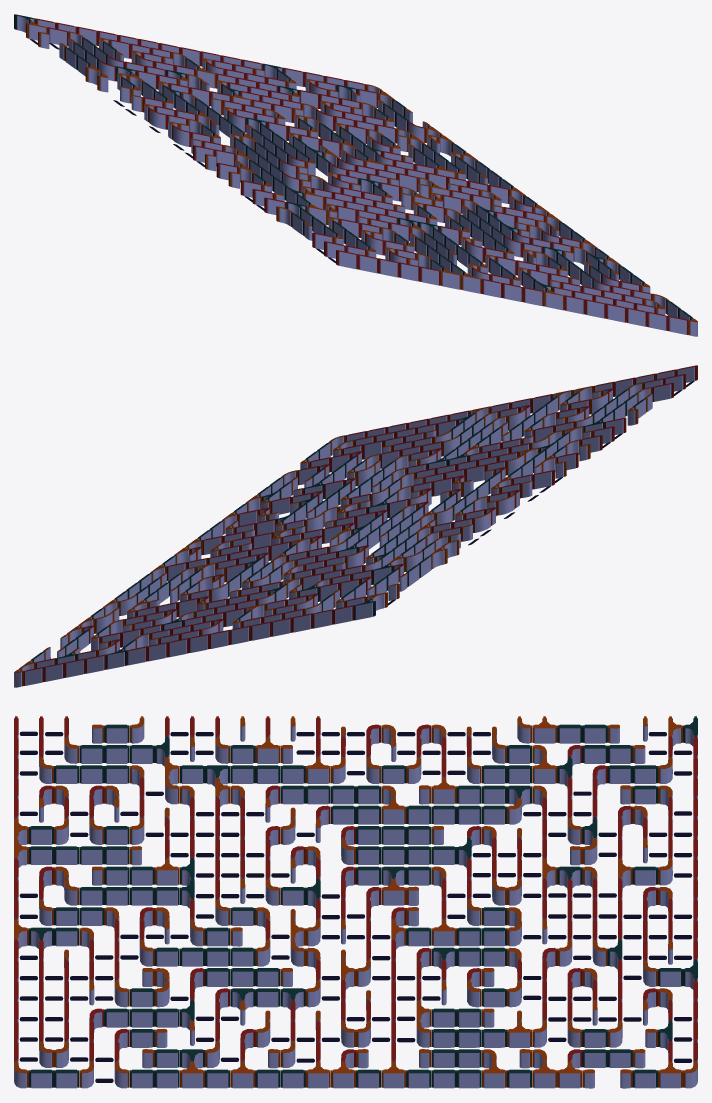
File: W_M_maze_InWall_Side_B_L3.fbx
3 renders of one model, top to bottom at view 1: azimuth 30°, elevation 25°; view 2: azimuth 150°, elevation 25°; view 3: azimuth 270°, elevation 25°, orthographic. The views are drawn at different scales.
Visible parts, largest first — view 1: W_M_maze_InWall_Side_B_L3; view 2: W_M_maze_InWall_Side_B_L3; view 3: W_M_maze_InWall_Side_B_L3.
Part boxes in pixels (bbox=[...]): W_M_maze_InWall_Side_B_L3: bbox=[14, 14, 697, 336]; W_M_maze_InWall_Side_B_L3: bbox=[14, 365, 697, 687]; W_M_maze_InWall_Side_B_L3: bbox=[14, 716, 697, 1088].
Size of the model in its own units: 26.4 by 12.17 by 40.77.
